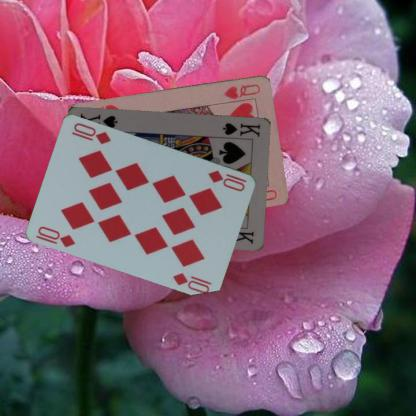10d: (206, 167, 248, 192), (35, 223, 77, 248)
Ks: (220, 120, 262, 138)
Qh: (222, 81, 262, 100)
